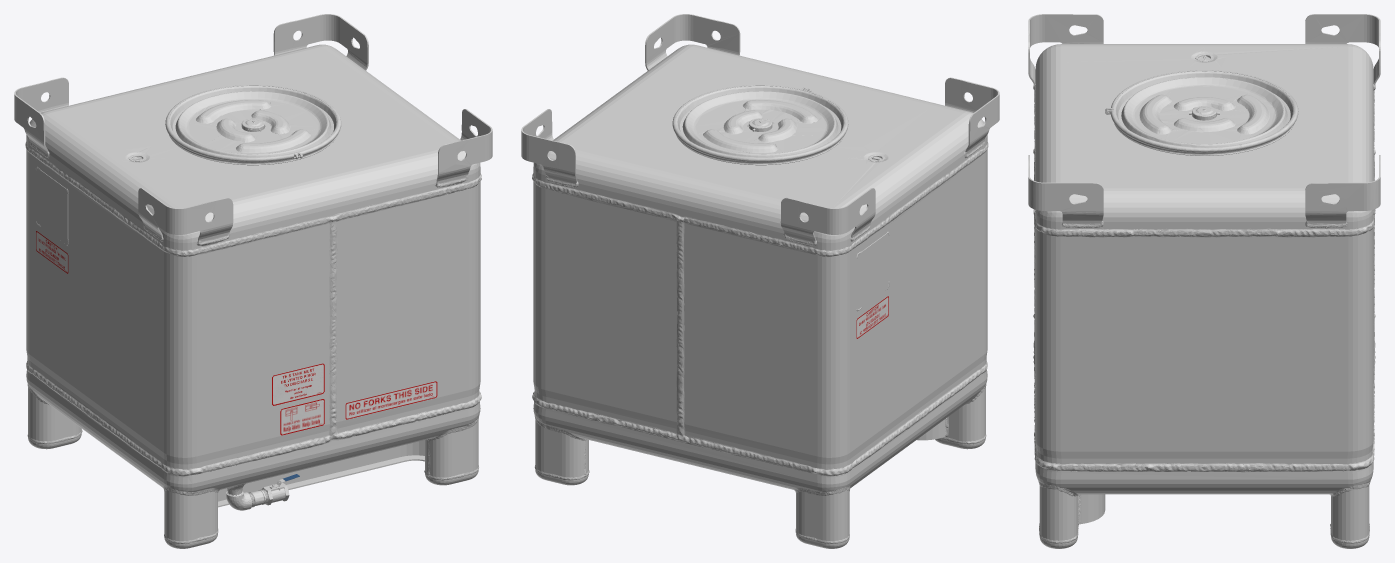
File: hardware_buffer_tank.glb
3 views of the same model, side by side, from view 1: azimuth 30°, elevation 25°; view 2: azimuth 150°, elevation 25°; view 3: azimuth 270°, elevation 25° (orthographic). The views are drawn at different scales.
Visible parts, largest first — view 1: part_0_opaque__metal__glossy_b, part_1_opaque__paper__decals_a, part_3_opaque__metal__aluminium_brushed_a; view 2: part_0_opaque__metal__glossy_b, part_3_opaque__metal__aluminium_brushed_a, part_1_opaque__paper__decals_a; view 3: part_0_opaque__metal__glossy_b, part_3_opaque__metal__aluminium_brushed_a.
Part boxes in pixels (x1,y1,x2,y2): part_0_opaque__metal__glossy_b: (14,14,492,548); part_1_opaque__paper__decals_a: (36,231,437,435); part_3_opaque__metal__aluminium_brushed_a: (165,85,341,165); part_0_opaque__metal__glossy_b: (521,14,999,548); part_3_opaque__metal__aluminium_brushed_a: (672,85,848,165); part_1_opaque__paper__decals_a: (856,296,888,338); part_0_opaque__metal__glossy_b: (1028,14,1380,548); part_3_opaque__metal__aluminium_brushed_a: (1105,70,1298,155).
Size of the model in its own units: 1.26 by 1.3 by 1.11.
4 materials, 3 textured.
